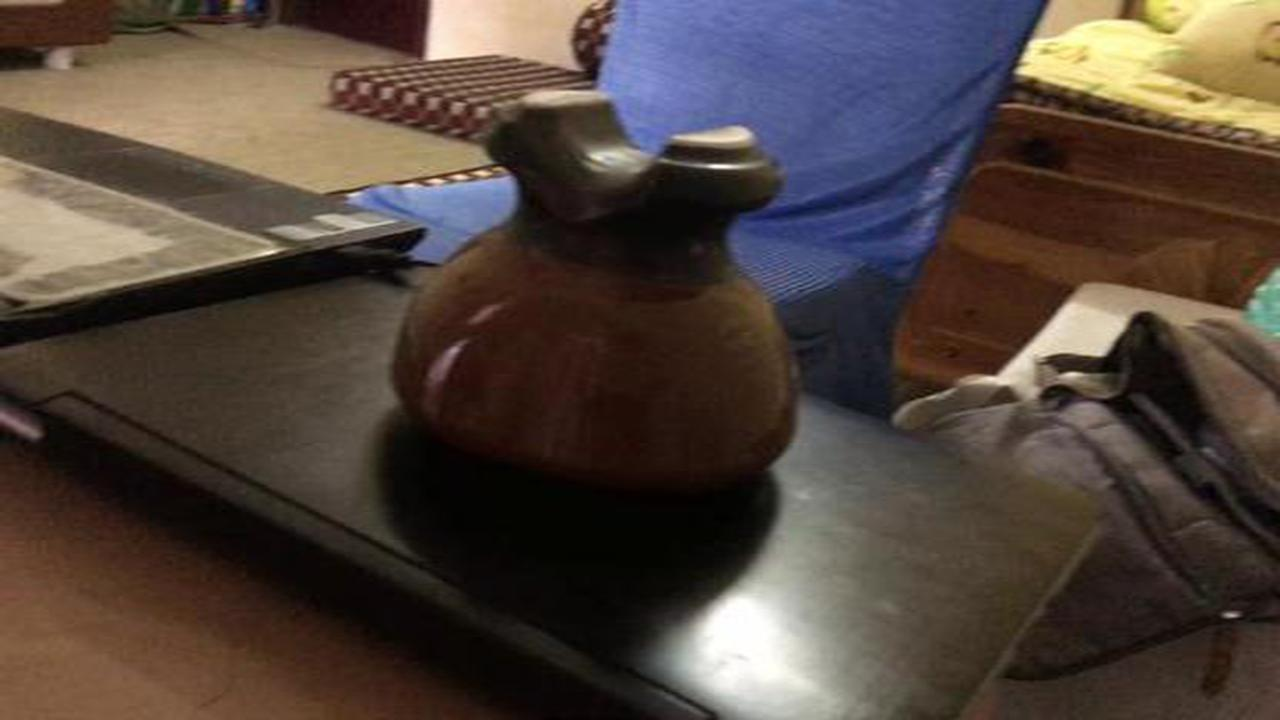insulator_pin: (354, 77, 841, 527)
